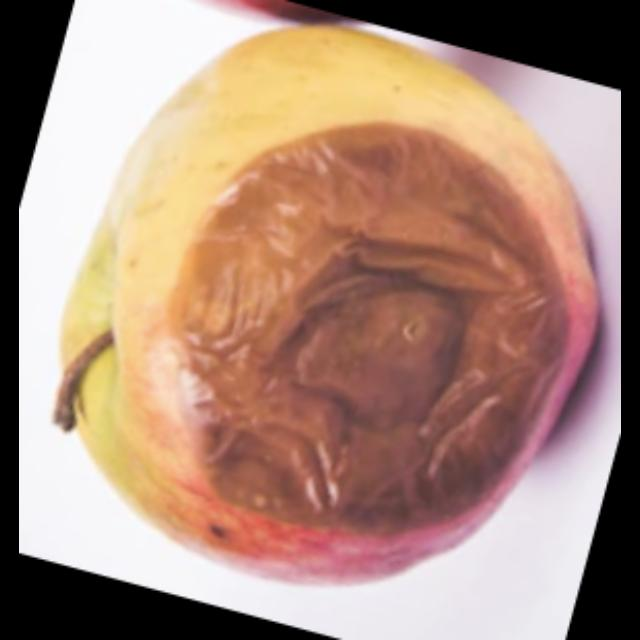Apel Tidak Segar: (48, 17, 606, 589)
